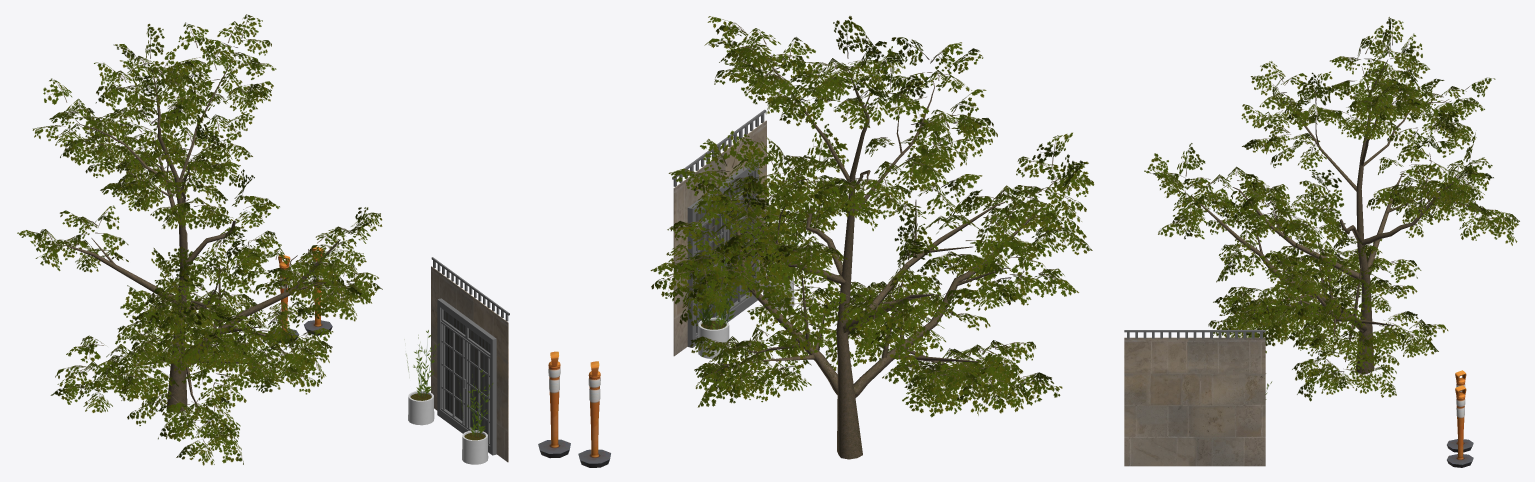
File: bldg_07_corner_bistro.glb
3 renders of one model, left to right at view 1: azimuth 30°, elevation 25°; view 2: azimuth 150°, elevation 25°; view 3: azimuth 270°, elevation 25°, orthographic. The views are drawn at different scales.
Visible parts, largest first — view 1: bldg_07_corner_bistro; view 2: bldg_07_corner_bistro; view 3: bldg_07_corner_bistro.
Part boxes in pixels (x1,y1,x2,y2): bldg_07_corner_bistro: (17, 14, 509, 465); bldg_07_corner_bistro: (538, 16, 1094, 467); bldg_07_corner_bistro: (1124, 17, 1519, 467).
Bounding box in the file's own units: 5.38 × 5.54 × 5.61.
Materials: 6 (6 with a texture image).
